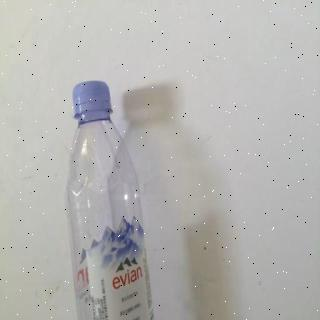Plastic-bottle: (65, 81, 157, 320)
